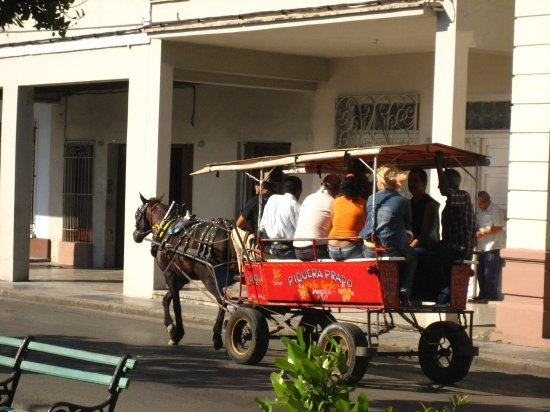horse: (133, 192, 254, 350)
